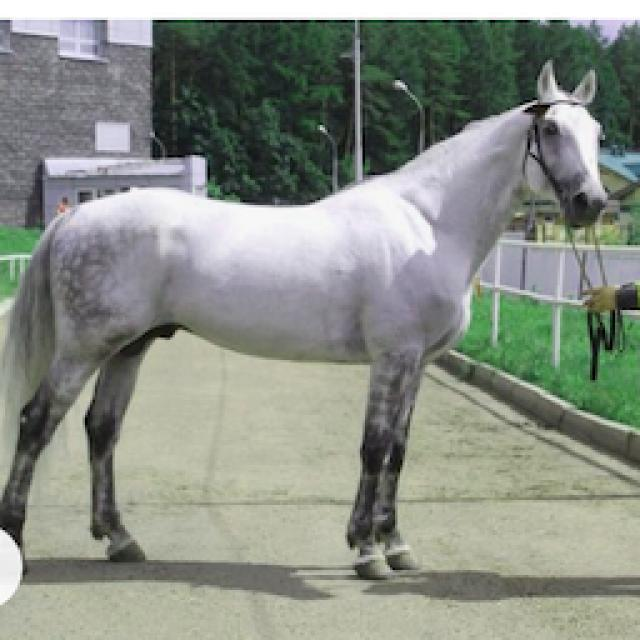Horse: (2, 55, 616, 585)
